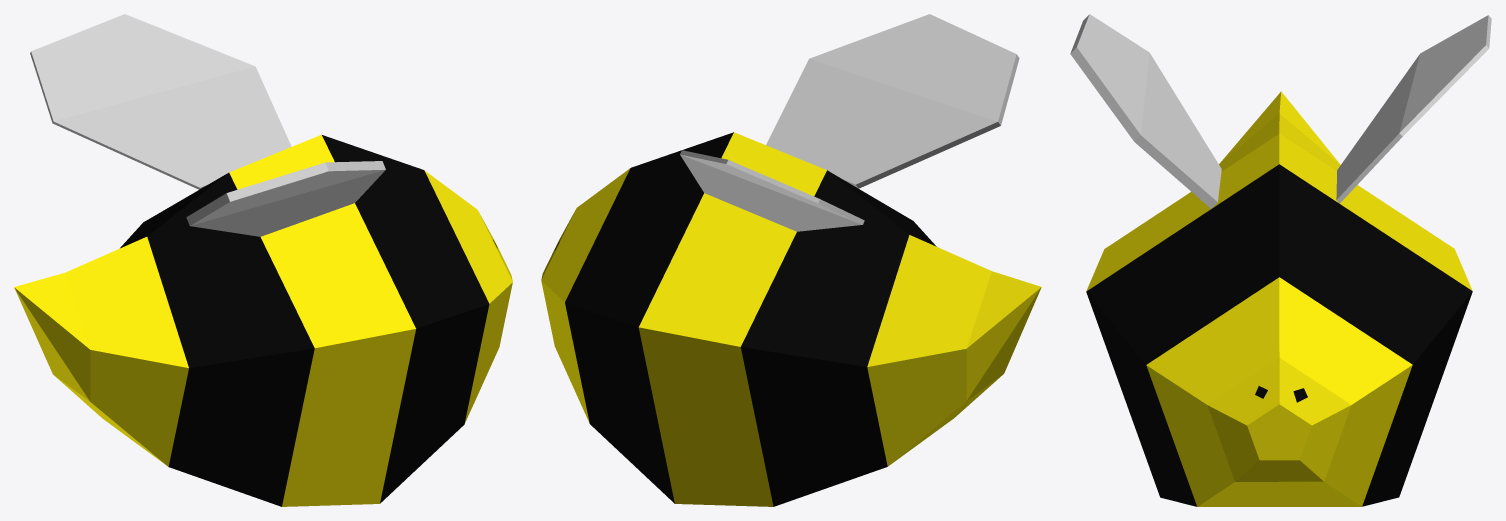
Rendered from YellowBee.fbx.
The picture shows the model from 3 angles, left to right: view 1: azimuth 30°, elevation 25°; view 2: azimuth 150°, elevation 25°; view 3: azimuth 270°, elevation 25°; orthographic projection. The views are drawn at different scales.
Parts seen in each view (by area): view 1: Cylinder; view 2: Cylinder; view 3: Cylinder.
Part boxes in pixels (left/top/right/bottom): Cylinder: left=14, top=14, right=512, bottom=506; Cylinder: left=541, top=14, right=1041, bottom=506; Cylinder: left=1070, top=14, right=1491, bottom=506.
Bounding box in the file's own units: 279 × 207 × 220.
Materials: 1 (1 with a texture image).
